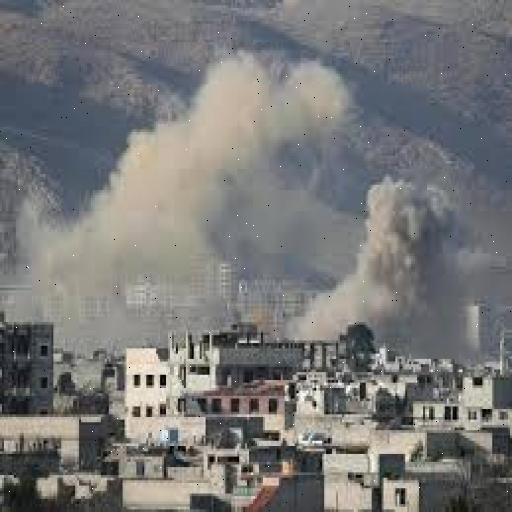smoke: (101, 58, 464, 317)
